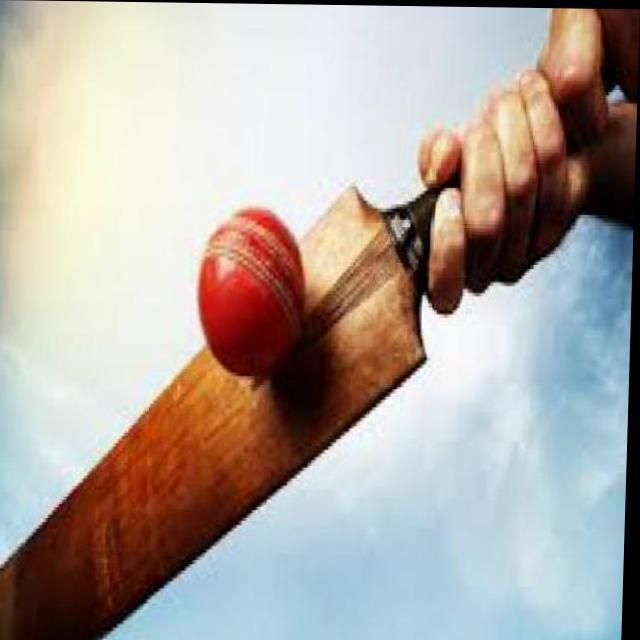-: (162, 201, 326, 370)
